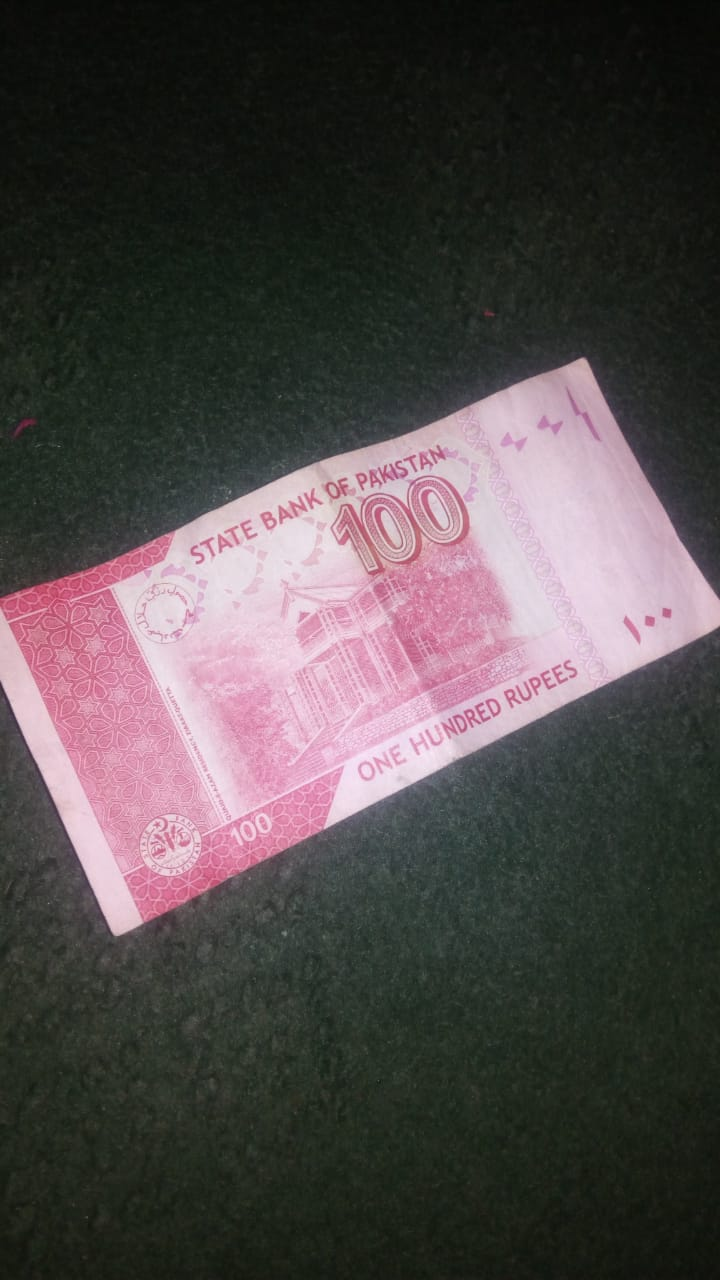100 rupee: (11, 351, 720, 950)
